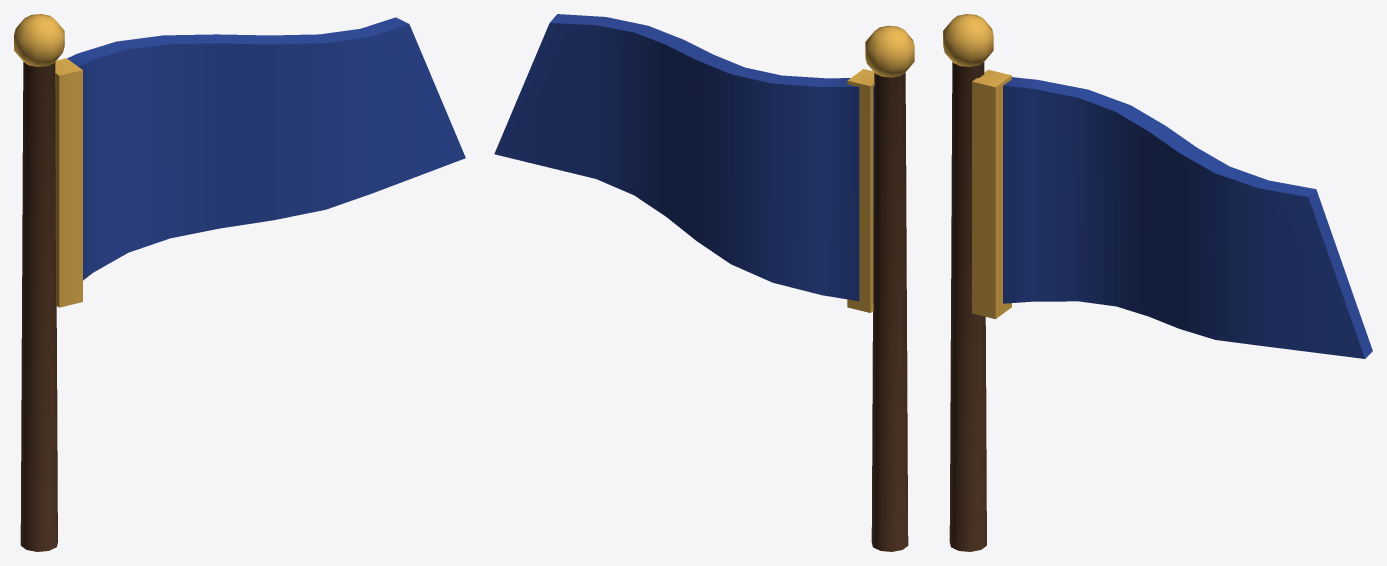
Rendered from icon_flag.glb.
3 views of the same model, side by side, from view 1: azimuth 30°, elevation 25°; view 2: azimuth 150°, elevation 25°; view 3: azimuth 330°, elevation 25° (orthographic). The views are drawn at different scales.
Visible parts, largest first — view 1: Flag; view 2: Flag; view 3: Flag.
Part boxes in pixels (x1=…): Flag: x1=14, y1=14, x2=465, y2=551; Flag: x1=494, y1=14, x2=914, y2=551; Flag: x1=943, y1=14, x2=1372, y2=551.
Size of the model in its own units: 0.9183 by 1.07 by 0.1575.
1 material, 1 textured.
